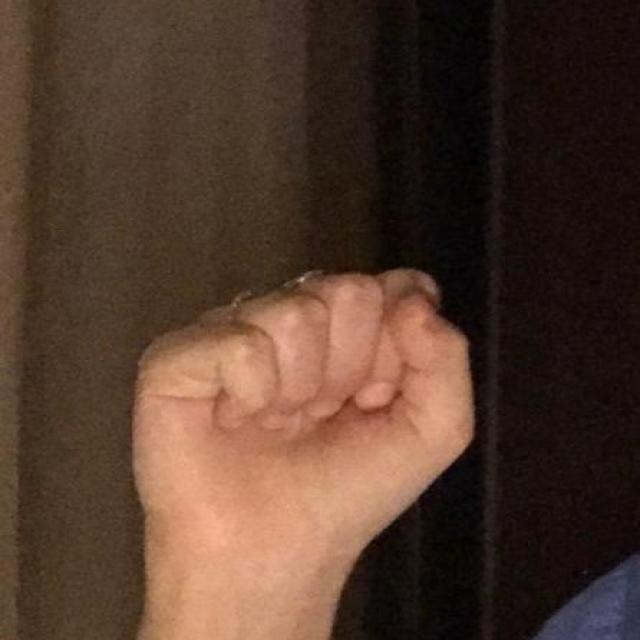hand: (129, 265, 477, 570)
